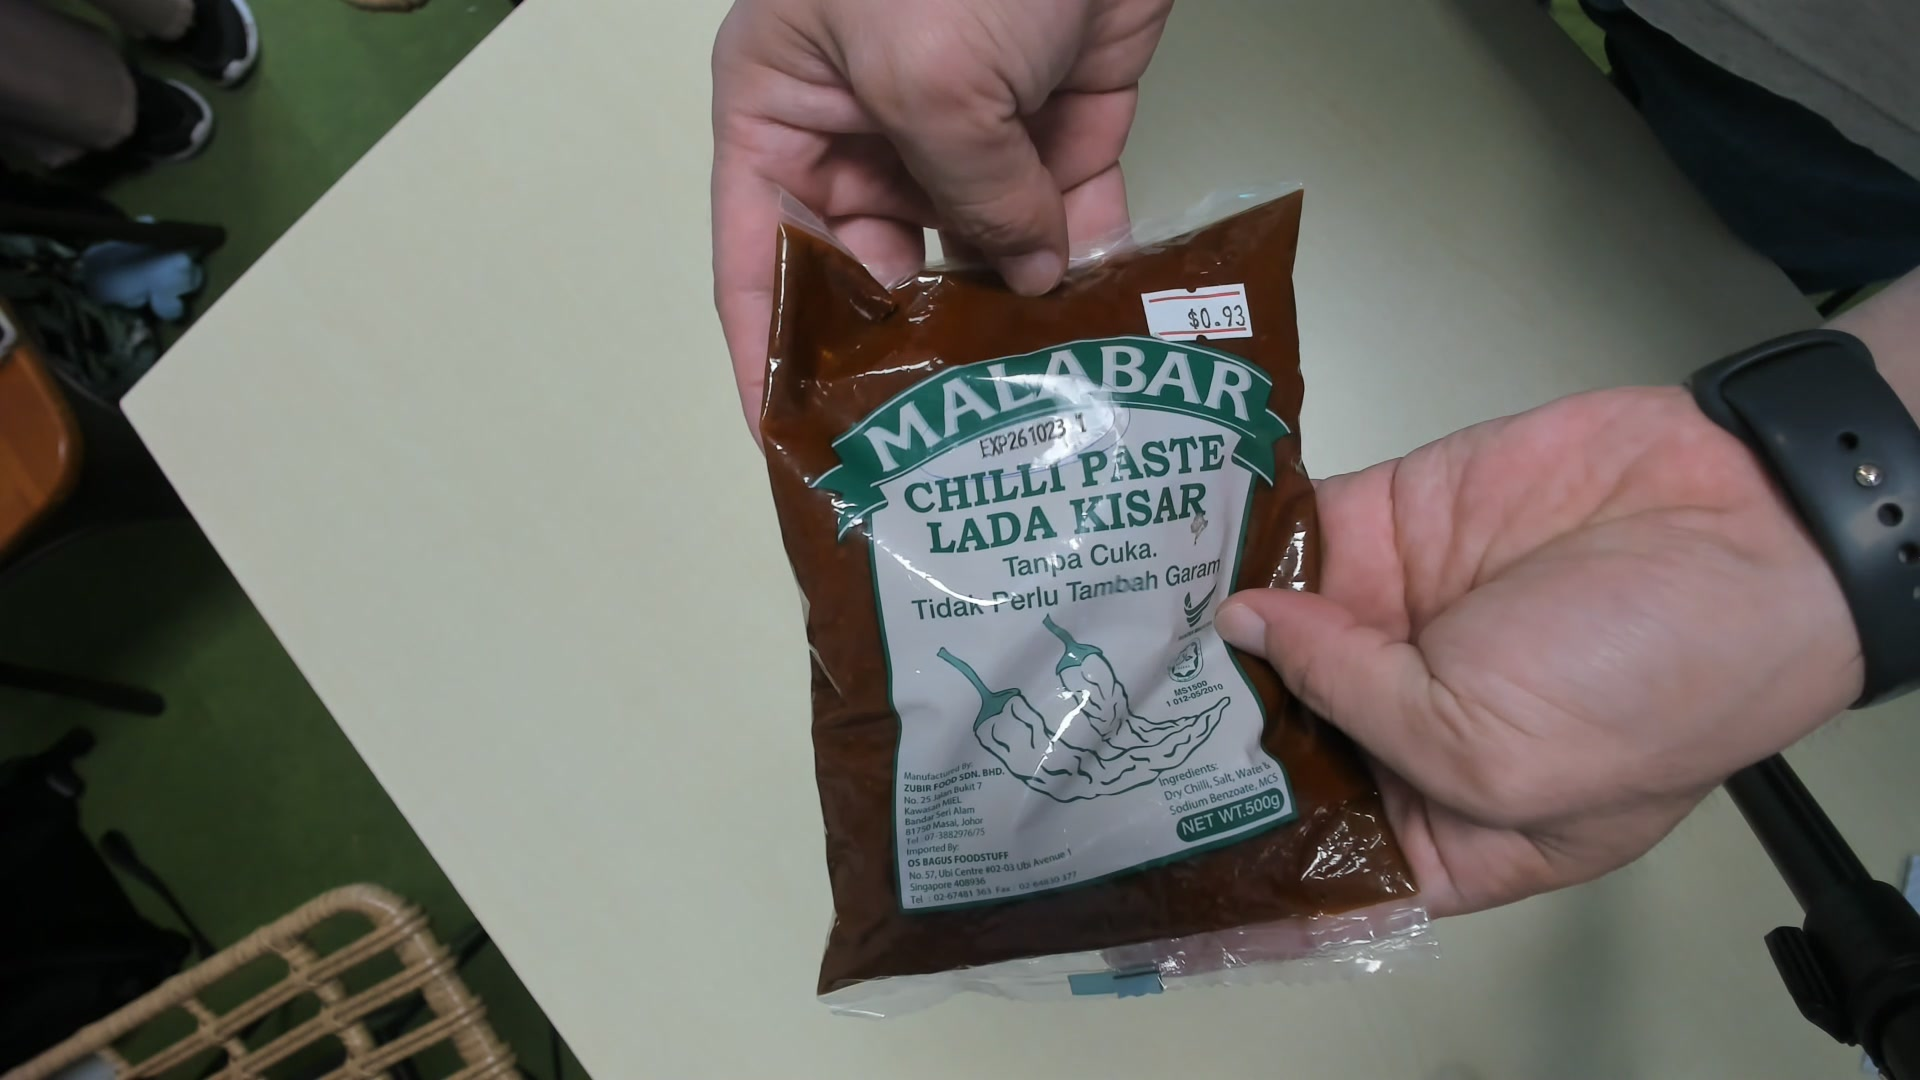OtherSauceDressingSoupbasePaste_500-599g_Halal_NonHealthy: (775, 196, 1440, 1001)
